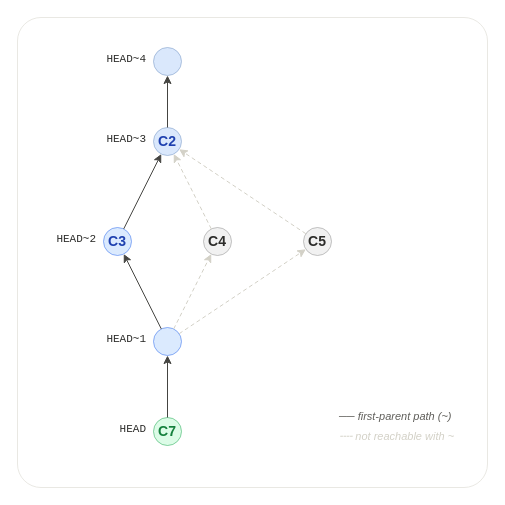
Image size: 505x505. Some labels were removed from this diagram. The shapes that lost their labels are listed below. From the top down, each one's centre as x and y in pixels, then its label:
point (167, 61): C1
point (167, 341): C6
